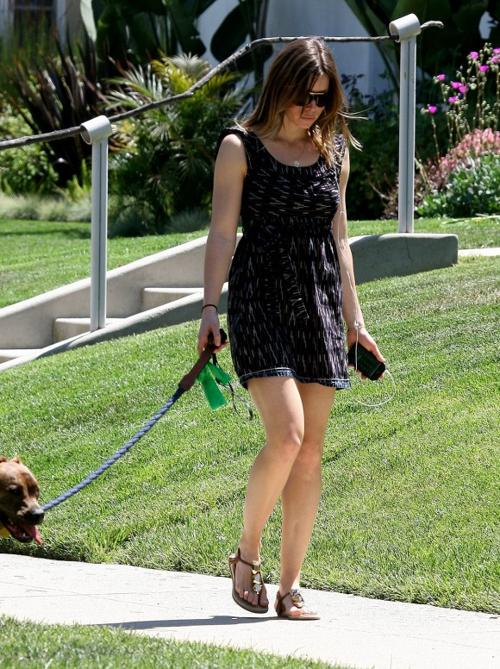person: (197, 41, 386, 622)
